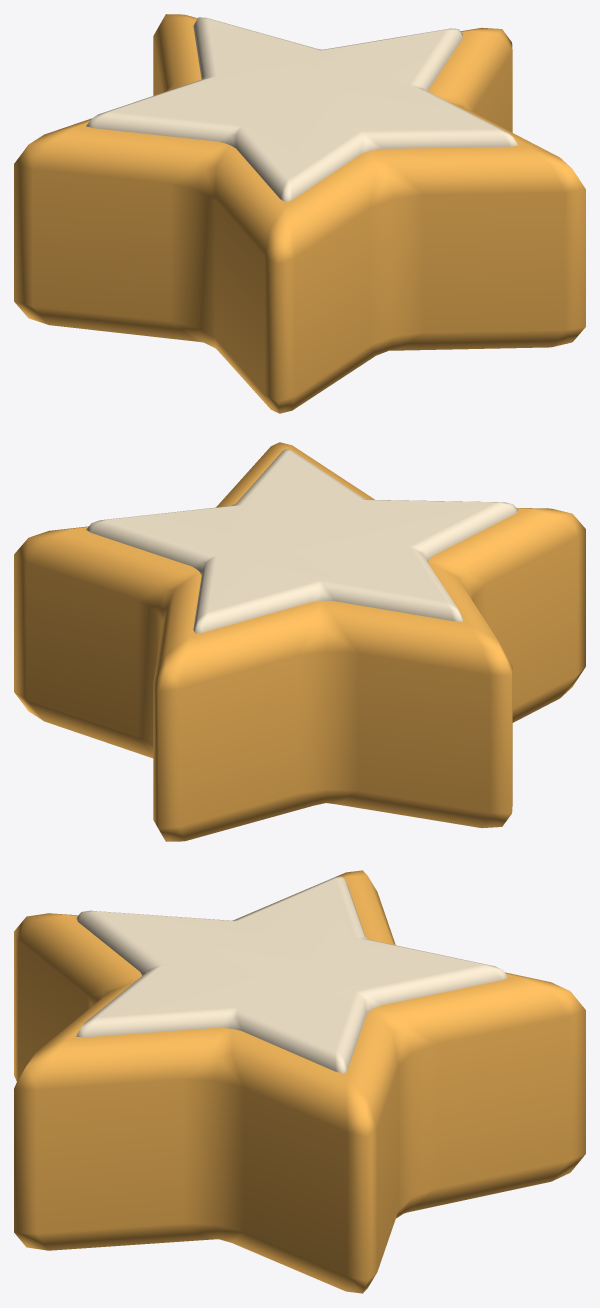
Rendered from A24_StarCrumb.fbx.
The picture shows the model from 3 angles, top to bottom: view 1: azimuth 30°, elevation 25°; view 2: azimuth 150°, elevation 25°; view 3: azimuth 270°, elevation 25°; orthographic projection. The views are drawn at different scales.
Visible parts, largest first — view 1: Honey crisp star, Vanilla raised star stamp; view 2: Honey crisp star, Vanilla raised star stamp; view 3: Honey crisp star, Vanilla raised star stamp.
Part boxes in pixels (bbox=[...]): Honey crisp star: bbox=[14, 14, 585, 413]; Vanilla raised star stamp: bbox=[86, 17, 518, 202]; Honey crisp star: bbox=[14, 442, 585, 841]; Vanilla raised star stamp: bbox=[86, 449, 518, 633]; Honey crisp star: bbox=[14, 870, 585, 1293]; Vanilla raised star stamp: bbox=[76, 876, 508, 1073].
Bounding box in the file's own units: 0.0417 × 0.017 × 0.0397.
